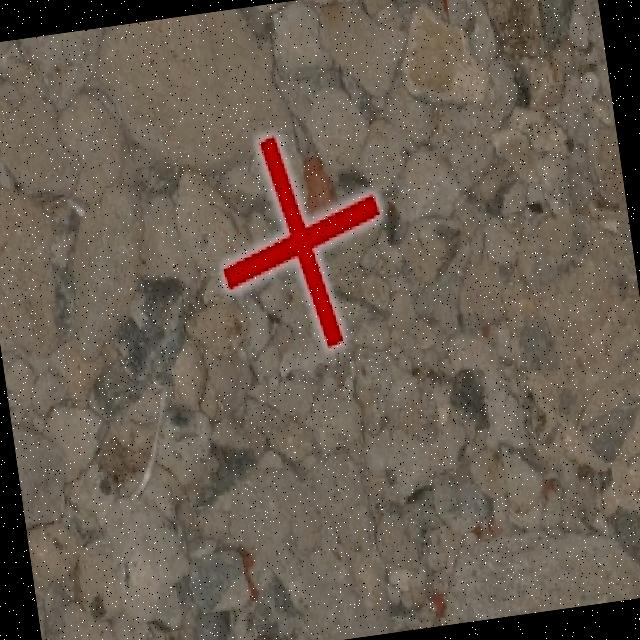x_marker: (206, 124, 396, 360)
